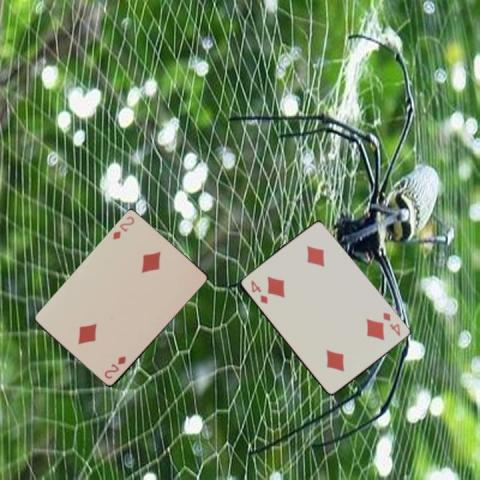2d: (102, 353, 128, 381), (110, 214, 136, 241)
4d: (380, 309, 402, 338), (248, 278, 269, 306)
